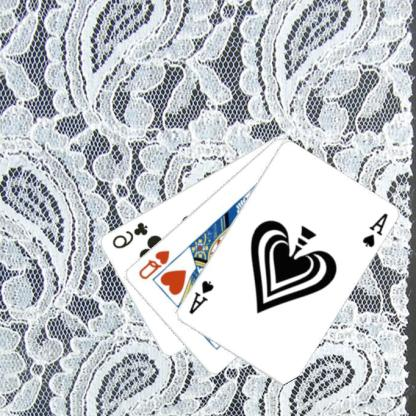9C: (110, 219, 152, 250)
AS: (360, 210, 391, 249), (187, 278, 217, 316)
QH: (137, 247, 173, 281)
